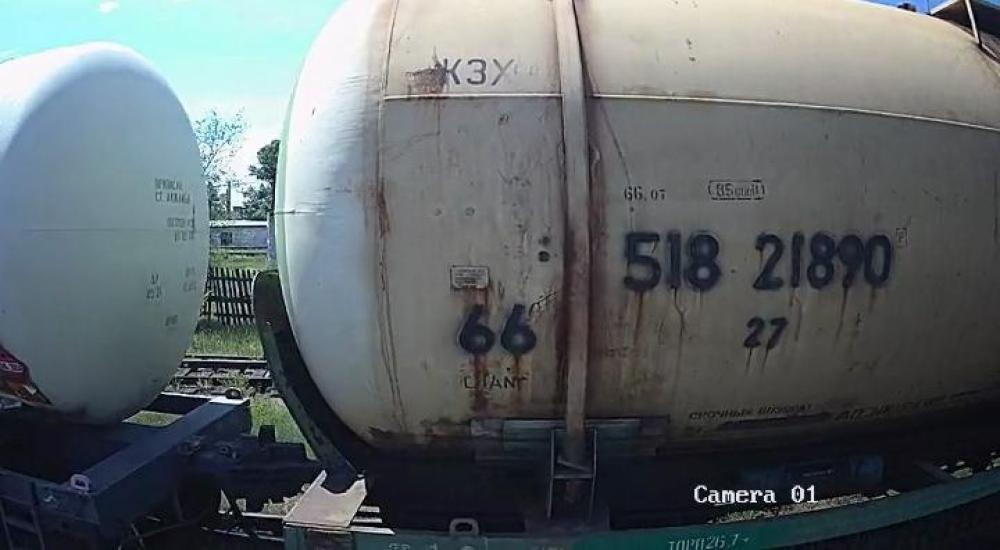Wagon-number: (616, 224, 899, 296)
